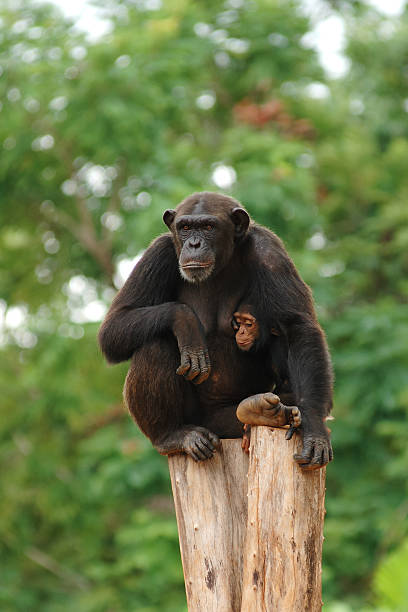chimpanzee: (146, 184, 254, 301)
